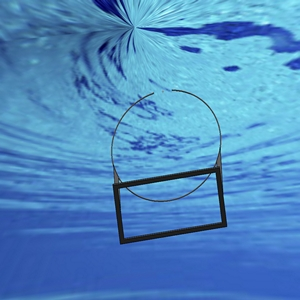circle: (106, 87, 226, 246)
